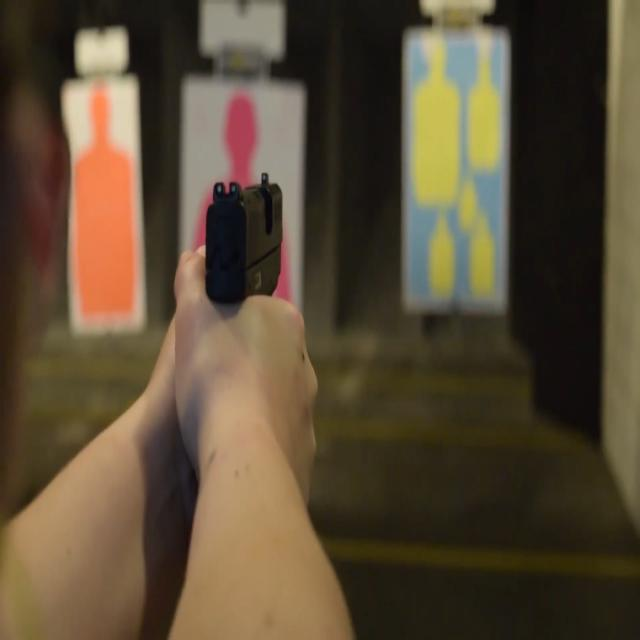handgun: (178, 147, 308, 458)
